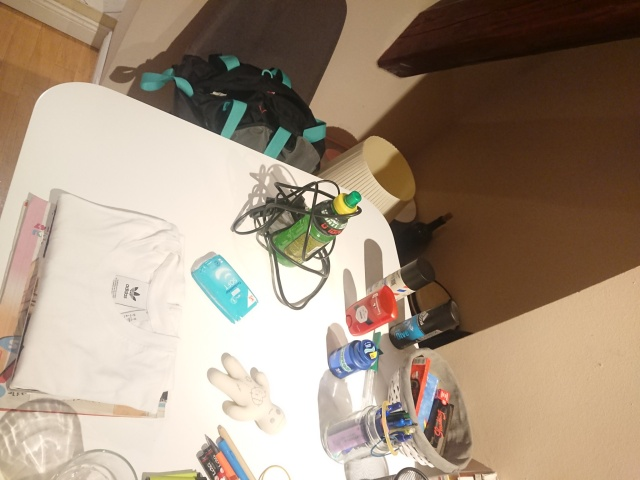Vindi Iso Sport Lemon-Grapefruit 500mL: (269, 189, 363, 269)
